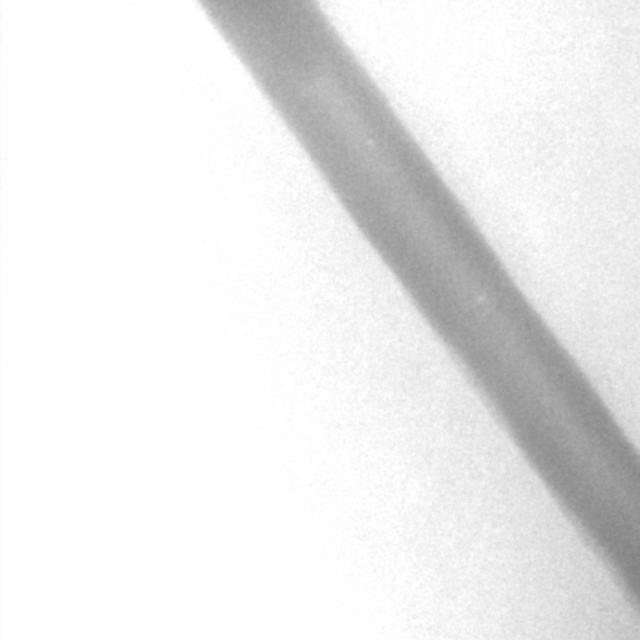air-hole: (365, 140, 369, 151)
